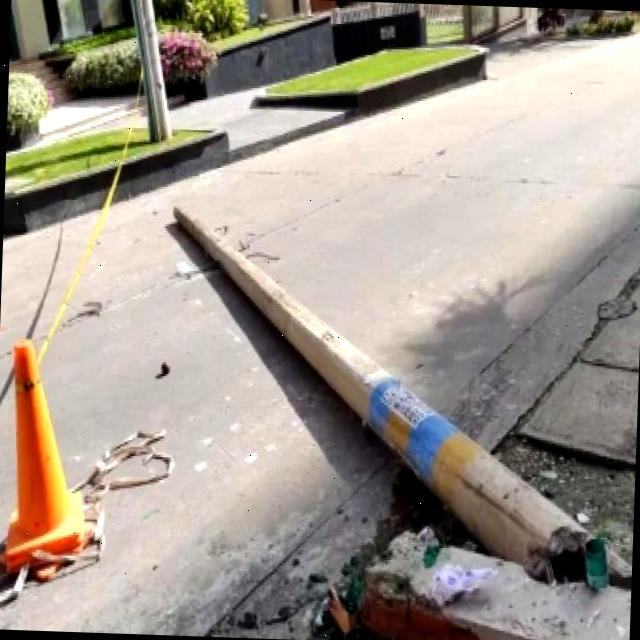Broken Pole: (174, 206, 630, 585)
